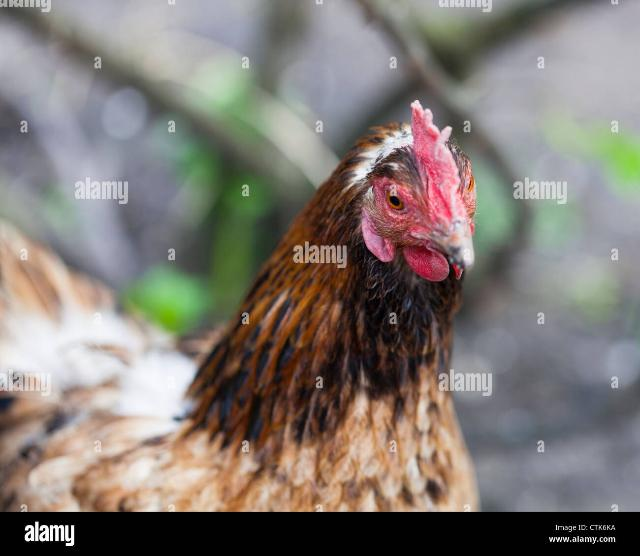Chicken: (0, 102, 485, 512)
